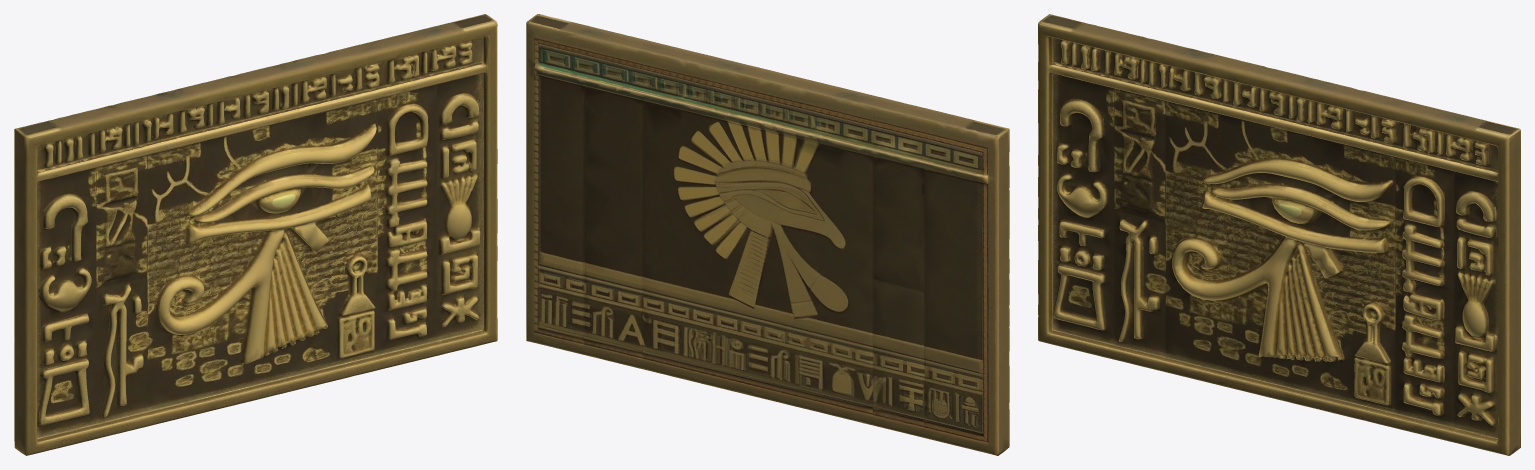
Rendered from egypt_wall_v2.glb.
The picture shows the model from 3 angles, left to right: view 1: azimuth 30°, elevation 25°; view 2: azimuth 150°, elevation 25°; view 3: azimuth 330°, elevation 25°; orthographic projection.
Bounding box in the file's own units: 1.91 × 1.24 × 0.1249.
1 material, 1 textured.
